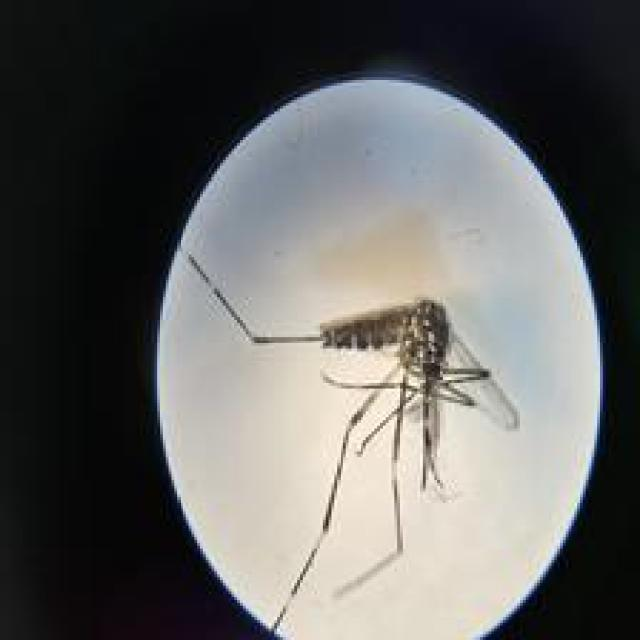Aedes albopictus: (181, 245, 521, 640)
